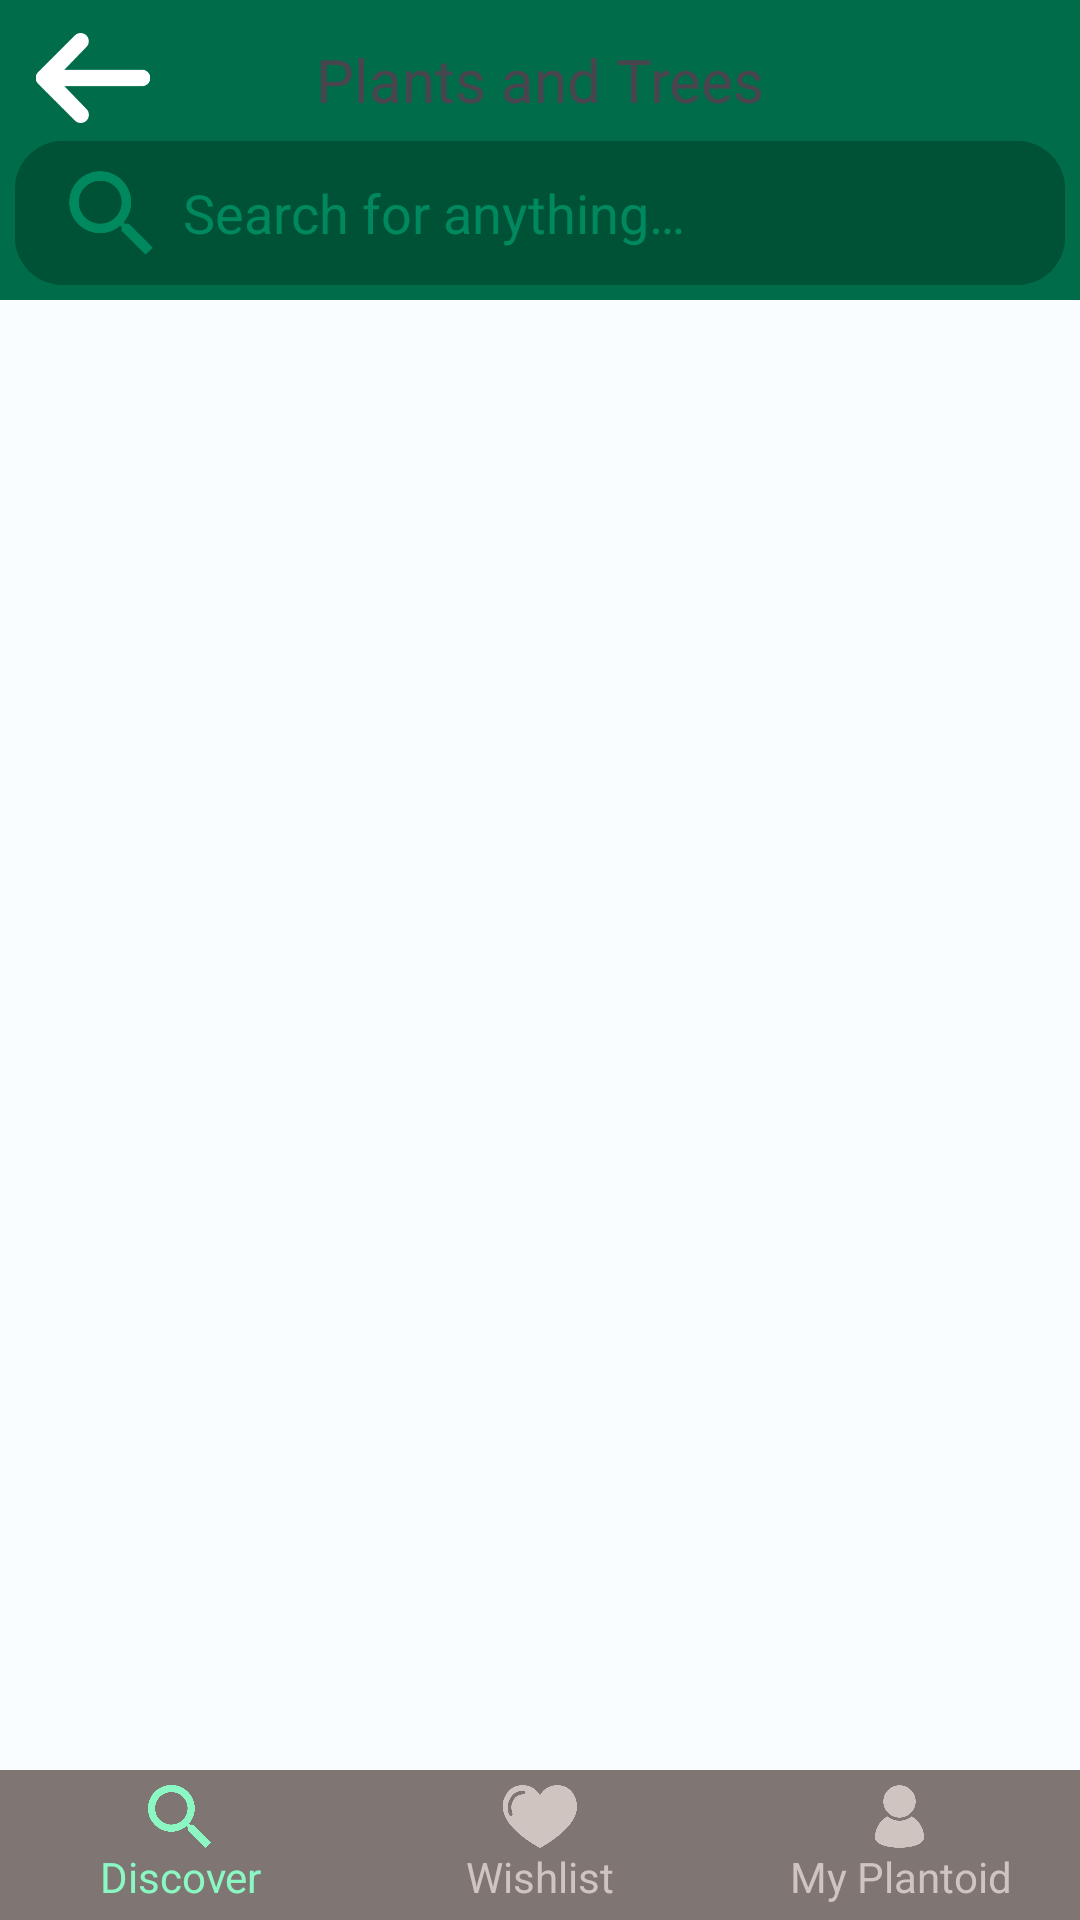

Named icons in this screenshot (1080*1920) and their bounding boxes, Rect(x1, y1, x2, y2):
back arrow: Rect(36, 33, 150, 123)
profile: Rect(875, 1785, 924, 1848)
